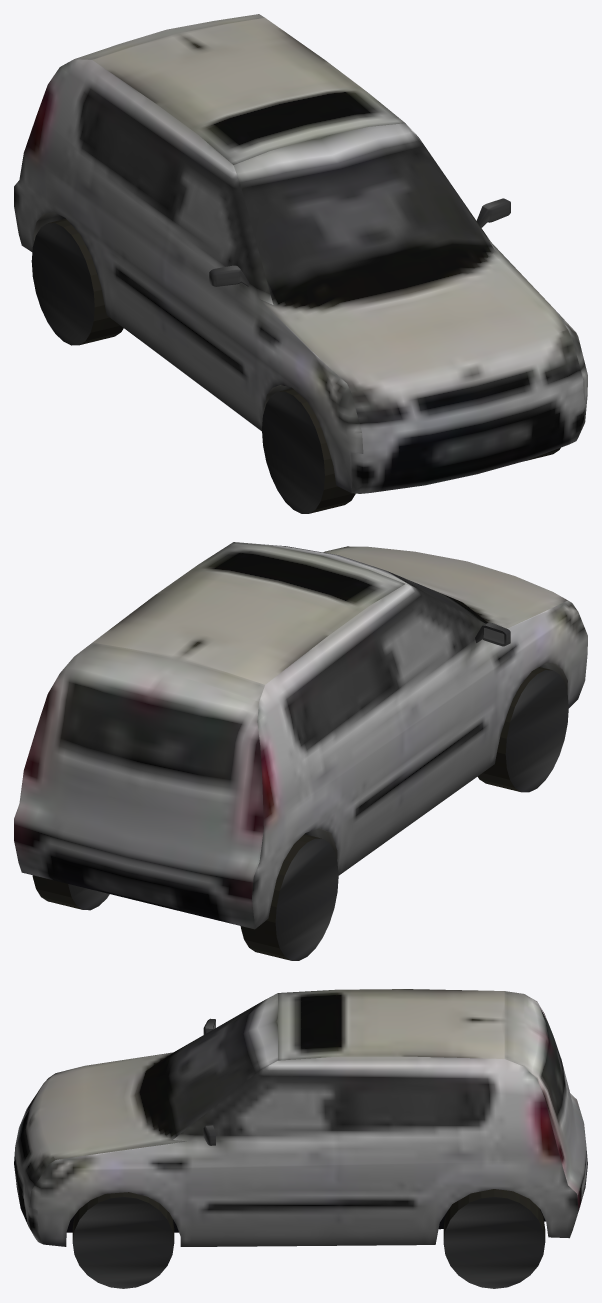
File: n_soul.glb
The picture shows the model from 3 angles, top to bottom: view 1: azimuth 30°, elevation 25°; view 2: azimuth 150°, elevation 25°; view 3: azimuth 270°, elevation 25°; orthographic projection. The views are drawn at different scales.
Visible parts, largest first — view 1: Car_g2_0, wheel_rr, wheel_fr; view 2: Car_g2_0, wheel_rr, wheel_fr, wheel_rl; view 3: Car_g2_0, wheel_rl, wheel_fl.
Boxes of the visible parts, bbox=[...] form: Car_g2_0: bbox=[14, 14, 587, 493]; wheel_rr: bbox=[31, 219, 123, 345]; wheel_fr: bbox=[262, 388, 355, 513]; Car_g2_0: bbox=[14, 542, 587, 929]; wheel_rr: bbox=[240, 834, 338, 960]; wheel_fr: bbox=[477, 667, 568, 792]; wheel_rl: bbox=[32, 875, 109, 910]; Car_g2_0: bbox=[14, 989, 587, 1246]; wheel_rl: bbox=[443, 1189, 545, 1288]; wheel_fl: bbox=[72, 1192, 174, 1288].
Bounding box in the file's own units: 1.88 × 1.66 × 3.88.
Materials: 2 (1 with a texture image).
